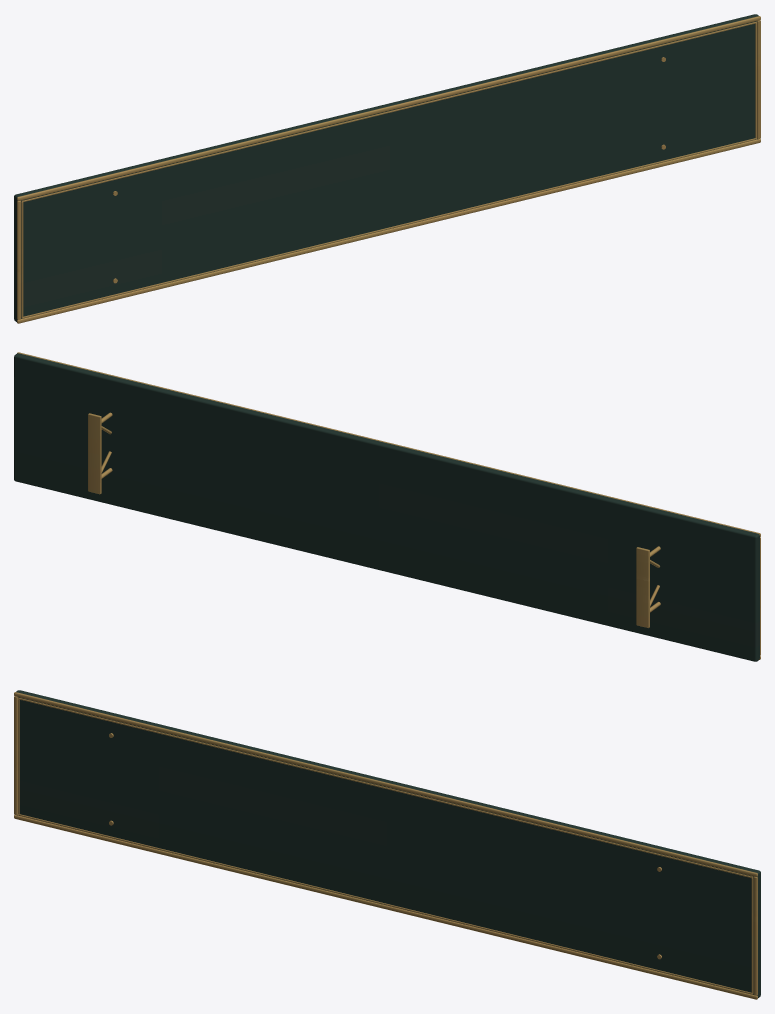
Rendered from certificate-sign.glb.
The picture shows the model from 3 angles, top to bottom: view 1: azimuth 30°, elevation 25°; view 2: azimuth 150°, elevation 25°; view 3: azimuth 330°, elevation 25°; orthographic projection.
Parts seen in each view (by area): view 1: sign-face, sign-metal; view 2: sign-face, sign-metal; view 3: sign-face, sign-metal.
Boxes of the visible parts, x1,y1,x2,y2 form: sign-face: (14,14,758,321); sign-metal: (17,16,760,323); sign-face: (14,353,759,661); sign-metal: (17,352,760,659); sign-face: (16,690,760,997); sign-metal: (14,692,757,999).
Size of the model in its own units: 1.6 by 0.26 by 0.081.
Materials: 2 (2 with a texture image).
